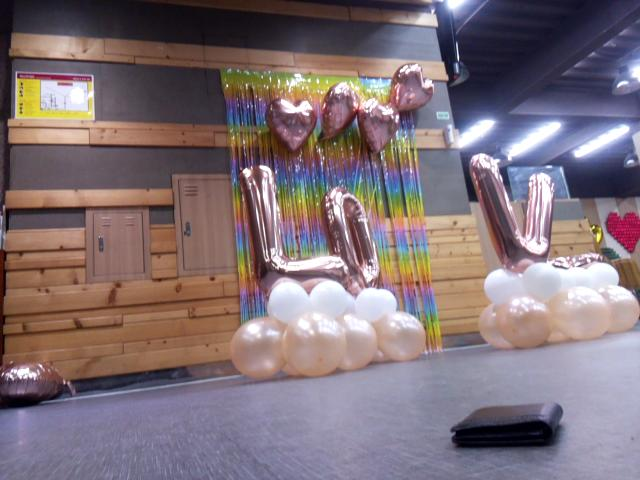wallet: (439, 396, 570, 451)
